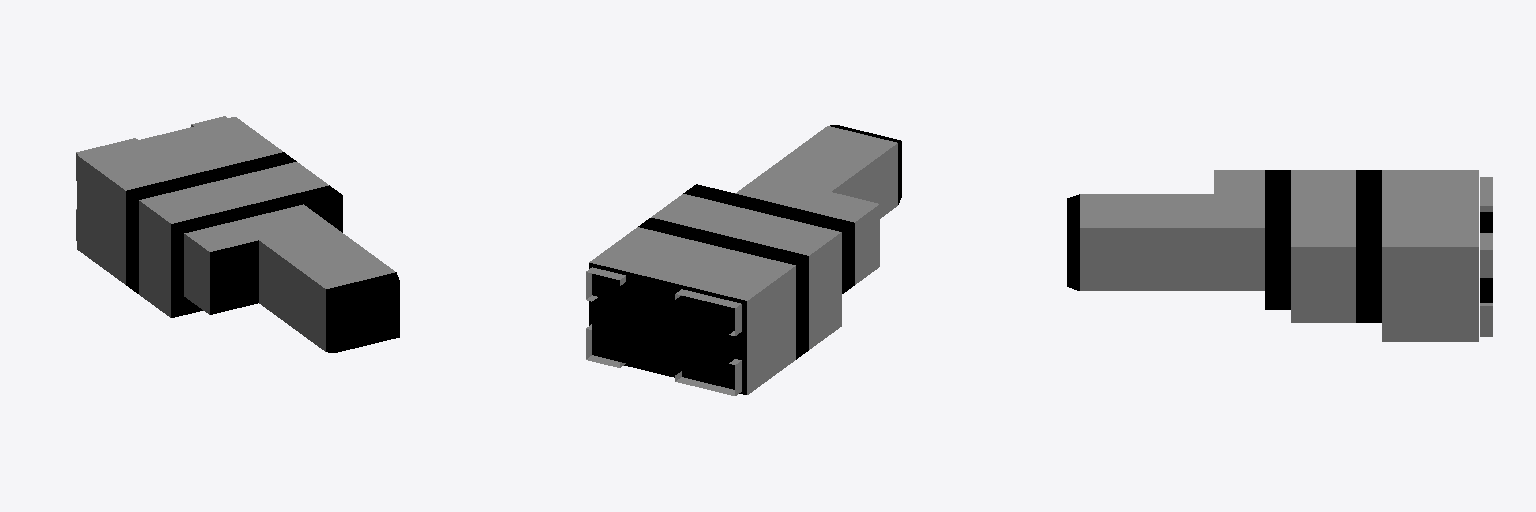
Rendered from skyscraper_windowF_04.obj.
3 renders of one model, left to right at view 1: azimuth 30°, elevation 25°; view 2: azimuth 150°, elevation 25°; view 3: azimuth 270°, elevation 25°, orthographic.
Visible parts, largest first — view 1: Object05; view 2: Object05; view 3: Object05.
Boxes of the visible parts, x1,y1,x2,y2 form: Object05: [76, 116, 399, 352]; Object05: [586, 125, 901, 395]; Object05: [1067, 170, 1492, 341].
Size of the model in its own units: 84.23 by 48 by 196.